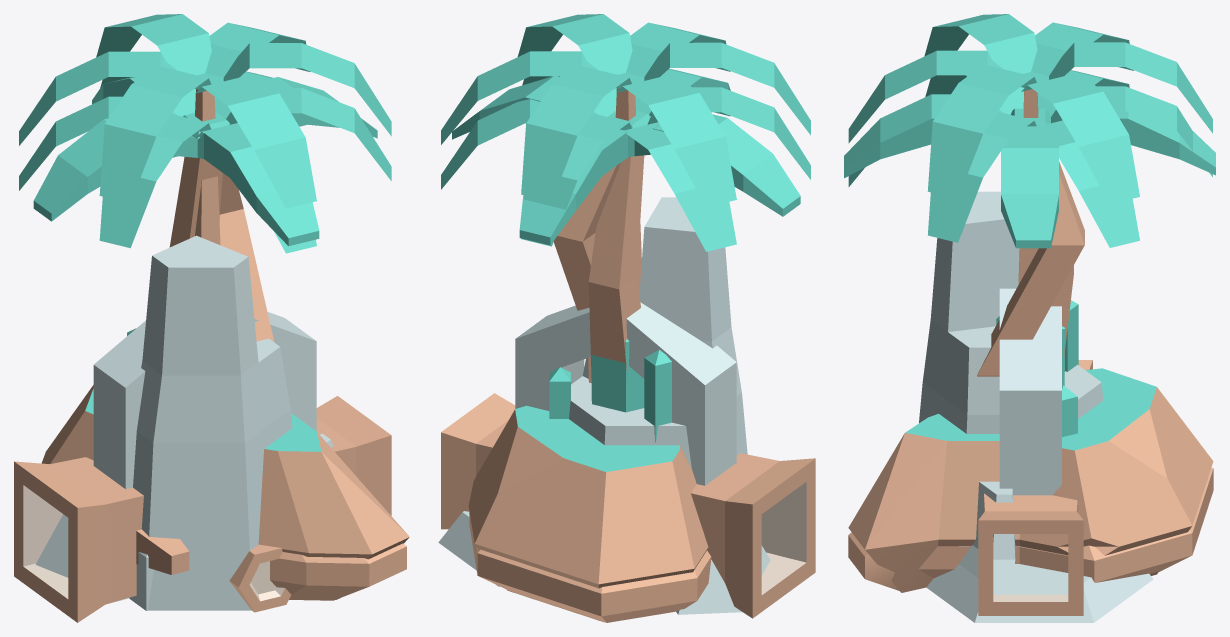
File: kenney-nature.glb
3 views of the same model, side by side, from view 1: azimuth 30°, elevation 25°; view 2: azimuth 150°, elevation 25°; view 3: azimuth 270°, elevation 25° (orthographic). The views are drawn at different scales.
Parts seen in each view (by area): view 1: stone_tallA, tree_palm, log_large, rock_largeB, tree_palmTall, tree_palmBend, statue_ring, rock_largeA, log; view 2: rock_largeB, tree_palm, log_large, tree_palmTall, stone_tallA, tree_palmBend, statue_ring, rock_largeA, cactus_tall; view 3: rock_largeB, tree_palm, stone_tallA, tree_palmBend, tree_palmTall, statue_ring, log_large, rock_largeA, cactus_tall.
Boxes of the visible parts, box(x1,y1,x2,y2) form: stone_tallA: box(35, 235, 333, 610); tree_palm: box(19, 14, 391, 245); log_large: box(14, 396, 391, 622); rock_largeB: box(41, 385, 409, 599); tree_palmTall: box(33, 77, 377, 247); tree_palmBend: box(19, 71, 391, 342); statue_ring: box(93, 312, 316, 610); rock_largeA: box(270, 543, 406, 600); log: box(229, 544, 291, 612); rock_largeB: box(468, 405, 708, 621); tree_palm: box(441, 14, 810, 292); log_large: box(441, 393, 815, 618); tree_palmTall: box(452, 68, 800, 383); stone_tallA: box(438, 197, 770, 614); tree_palmBend: box(441, 76, 810, 382); statue_ring: box(515, 302, 736, 485); rock_largeA: box(469, 511, 711, 622); cactus_tall: box(549, 339, 671, 442); rock_largeB: box(848, 368, 1213, 592); tree_palm: box(848, 14, 1212, 284); stone_tallA: box(919, 191, 1153, 622); tree_palmBend: box(848, 70, 1212, 376); tree_palmTall: box(844, 94, 1215, 368); statue_ring: box(959, 288, 1061, 546); log_large: box(978, 360, 1092, 615); rock_largeA: box(848, 467, 1213, 590); cactus_tall: box(996, 300, 1078, 437).
Bounding box in the file's own units: 1.03 × 1.51 × 1.03.
